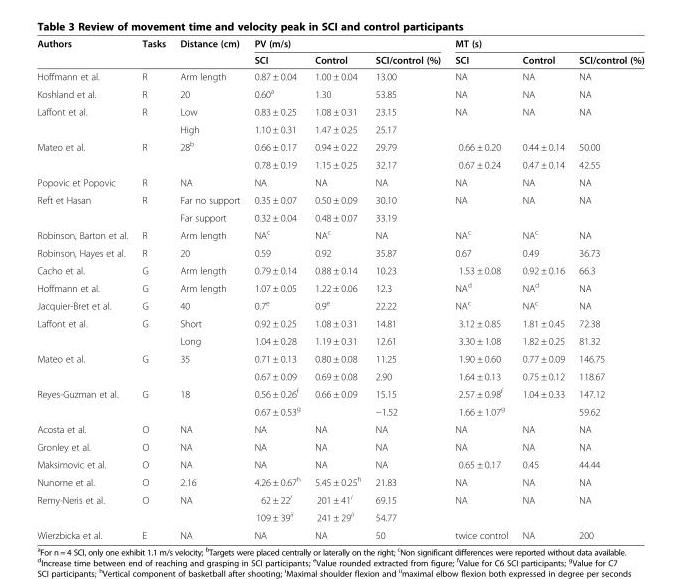table: (36, 37, 643, 540)
table column: (36, 37, 134, 540), (367, 37, 447, 540), (172, 37, 246, 540), (571, 37, 643, 540), (447, 37, 514, 540), (246, 37, 307, 540), (307, 37, 367, 540), (514, 37, 571, 540), (134, 37, 172, 540)
table column header: (36, 37, 643, 67)
table row: (36, 295, 643, 314), (36, 401, 643, 420), (36, 507, 643, 526), (36, 84, 643, 102), (36, 102, 643, 120), (36, 137, 643, 155), (36, 155, 643, 173), (36, 190, 643, 208), (36, 225, 643, 243), (36, 243, 643, 261), (36, 331, 643, 349), (36, 349, 643, 367), (36, 437, 643, 455), (36, 489, 643, 507), (36, 67, 643, 84), (36, 120, 643, 137), (36, 173, 643, 190), (36, 208, 643, 225), (36, 261, 643, 278), (36, 278, 643, 295), (36, 314, 643, 331), (36, 367, 643, 384), (36, 384, 643, 401), (36, 420, 643, 437), (36, 455, 643, 472), (36, 472, 643, 489), (36, 51, 643, 67), (36, 37, 643, 51), (36, 526, 643, 540)
table spanning cell: (36, 489, 134, 526), (36, 137, 134, 173), (36, 384, 134, 420), (36, 102, 134, 137), (36, 190, 134, 225), (36, 314, 134, 349), (36, 349, 134, 384), (36, 37, 134, 67), (246, 37, 447, 51), (447, 37, 643, 51), (172, 489, 246, 526), (172, 137, 246, 173), (172, 384, 246, 420), (571, 489, 643, 526), (172, 349, 246, 384), (571, 102, 643, 137), (571, 190, 643, 225), (447, 489, 514, 526), (447, 102, 514, 137), (447, 190, 514, 225), (172, 37, 246, 67), (307, 384, 367, 420), (514, 489, 571, 526), (514, 384, 571, 420), (514, 102, 571, 137), (514, 190, 571, 225), (134, 489, 172, 526), (134, 137, 172, 173), (134, 384, 172, 420), (134, 102, 172, 137), (134, 190, 172, 225), (134, 314, 172, 349), (134, 349, 172, 384), (134, 37, 172, 67)
